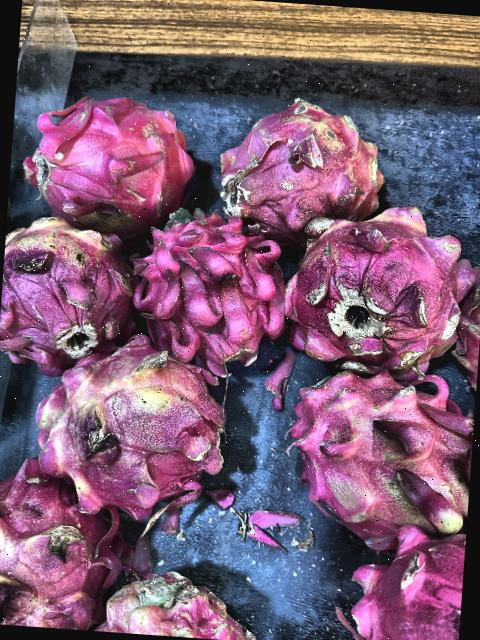buah-naga-belum-matang: (22, 330, 232, 505), (279, 355, 476, 535), (279, 189, 472, 360), (214, 95, 396, 228), (0, 207, 141, 359), (0, 455, 103, 630), (94, 563, 260, 640)
buah-naga-matang: (128, 196, 284, 368), (18, 80, 190, 230), (335, 504, 467, 640)
